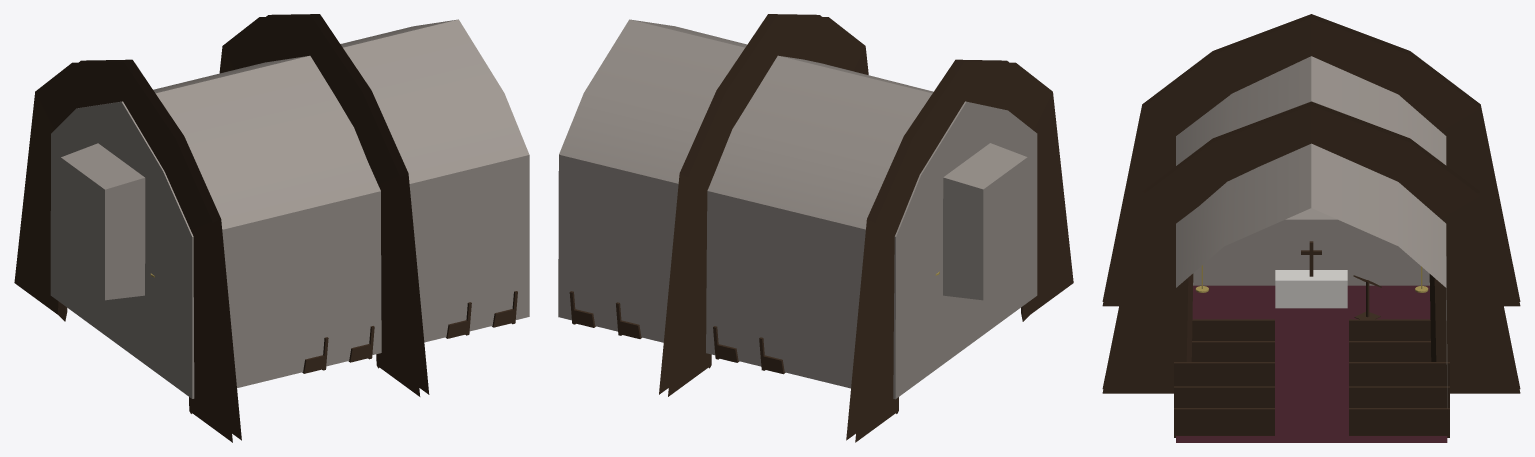
File: ChurchBlockout.fbx
3 renders of one model, left to right at view 1: azimuth 30°, elevation 25°; view 2: azimuth 150°, elevation 25°; view 3: azimuth 270°, elevation 25°, orthographic. The views are drawn at different scales.
Visible parts, largest first — view 1: pCube70; view 2: pCube70; view 3: pCube70.
Part boxes in pixels (left/top/right/bottom): pCube70: left=14, top=14, right=529, bottom=442; pCube70: left=558, top=14, right=1073, bottom=442; pCube70: left=1102, top=14, right=1520, bottom=442.
Bounding box in the file's own units: 491 × 384 × 494.
